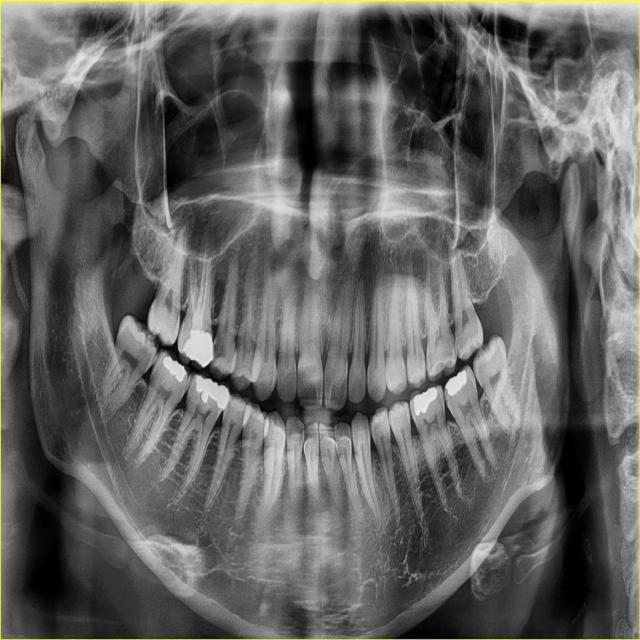Caries: (210, 335, 227, 367), (455, 336, 464, 353), (451, 334, 457, 357), (426, 349, 431, 372), (421, 354, 425, 373), (402, 364, 406, 379), (441, 391, 444, 406), (445, 395, 449, 406), (407, 364, 410, 378)
Filling: (182, 329, 215, 369), (195, 375, 229, 410), (414, 386, 437, 416), (163, 355, 187, 382), (445, 370, 466, 395)
Root Canal Treatment: (195, 236, 204, 309), (198, 260, 211, 307), (191, 264, 197, 309)
